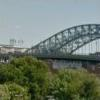Bridge: (11, 18, 95, 61)
